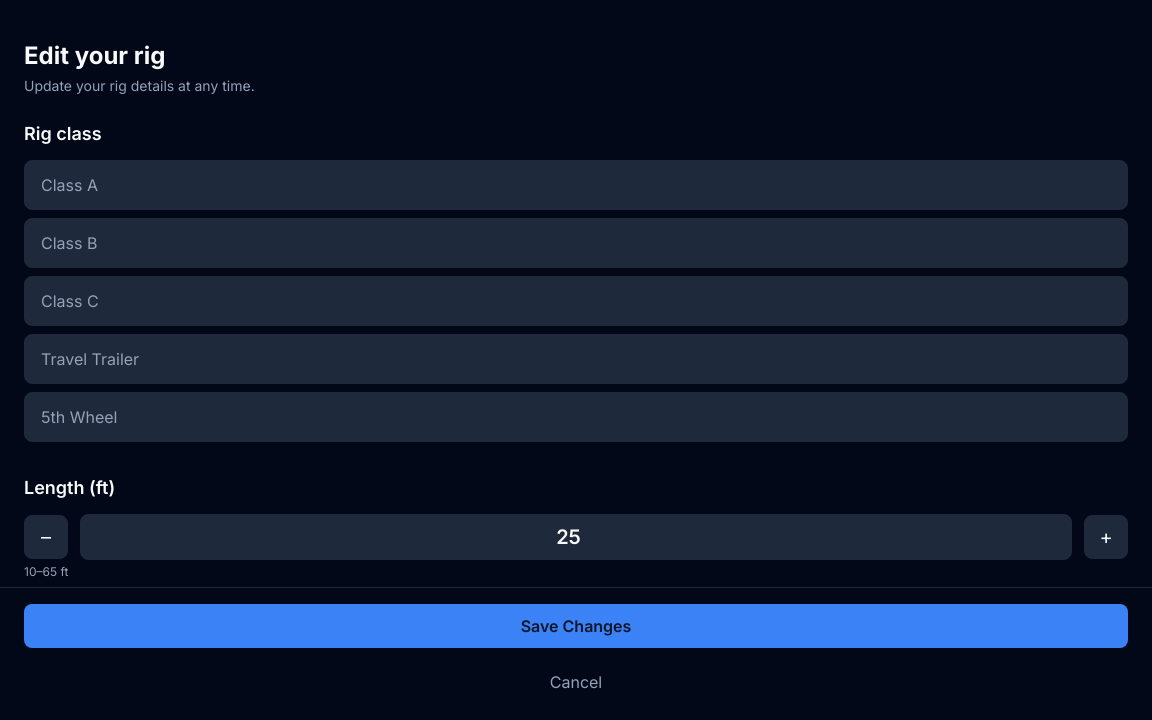
Test: RigEditScreen › clears validation error when user selects a rig class after failed save
Click the button "Save Changes" at (576, 626), box [24,604,1128,648]
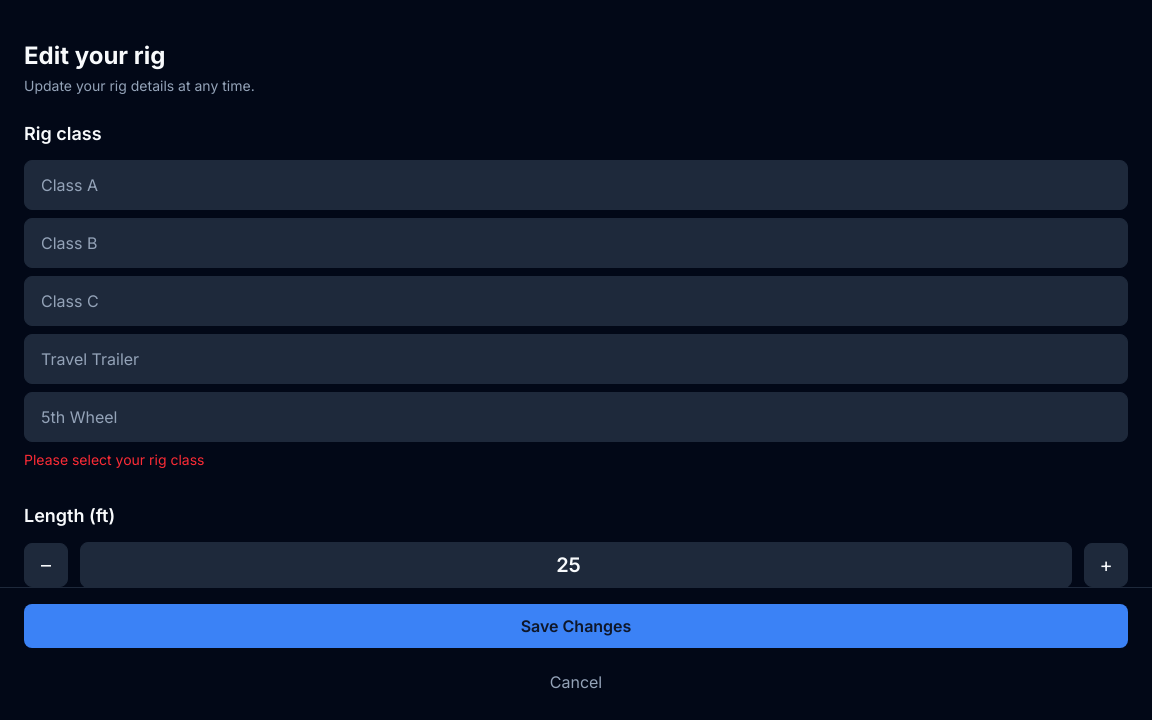
Expected: the message "Please select your rig class" is shown, [24,451,204,468]
Click the radio button labelled "Class A" at (69, 185), box [24,160,1128,210]
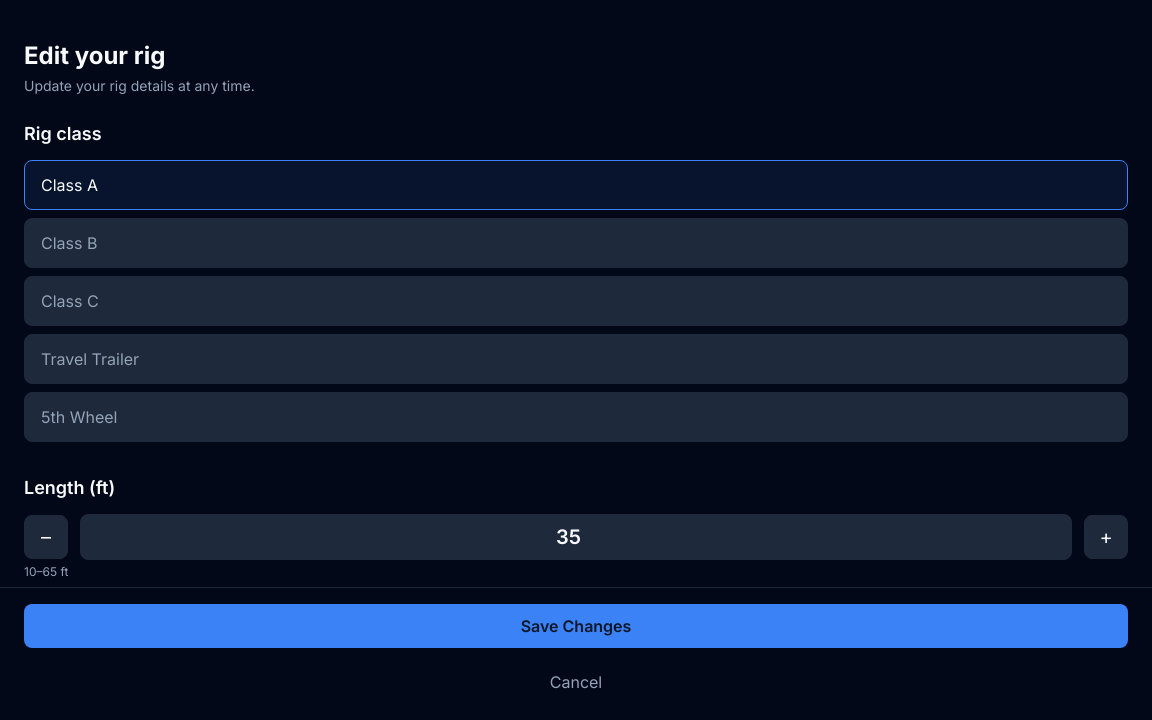
Expected: the message "Please select your rig class" is gone
